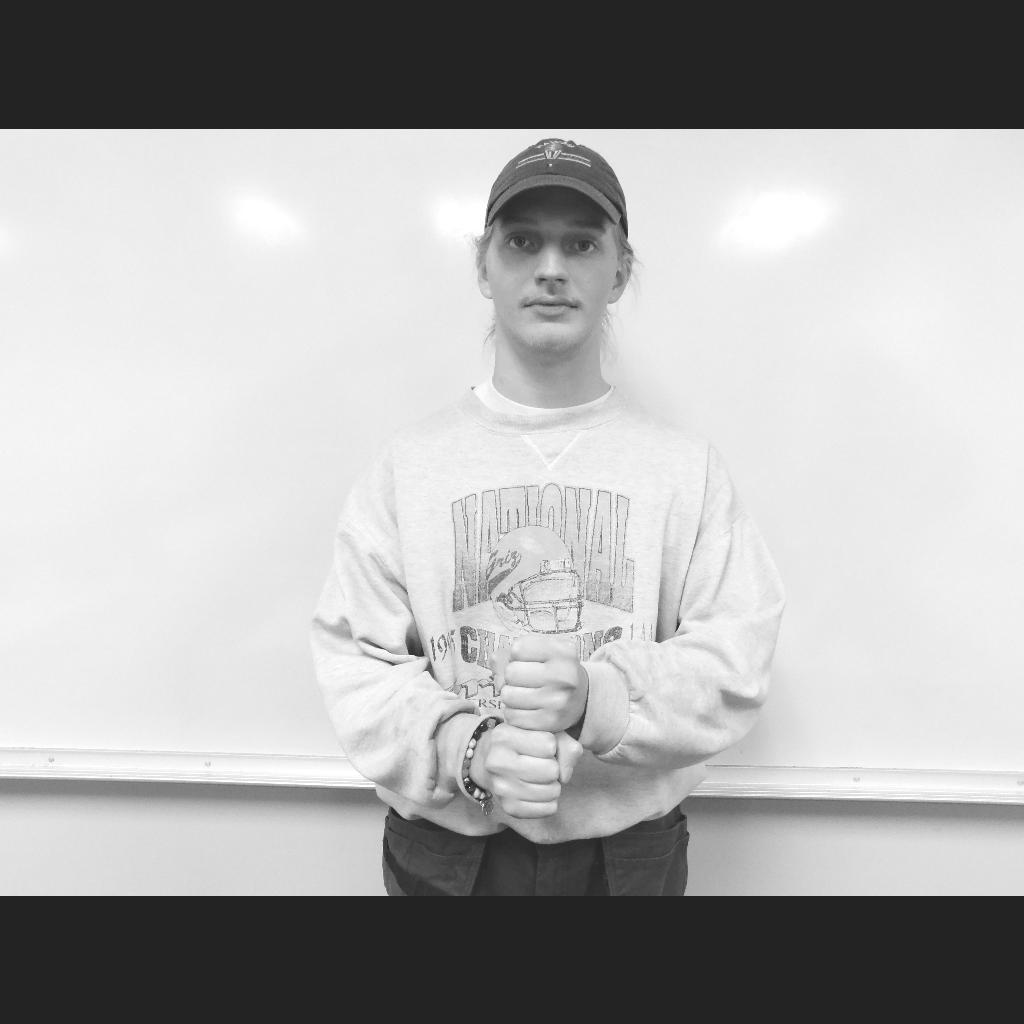get: (486, 634, 588, 818)
